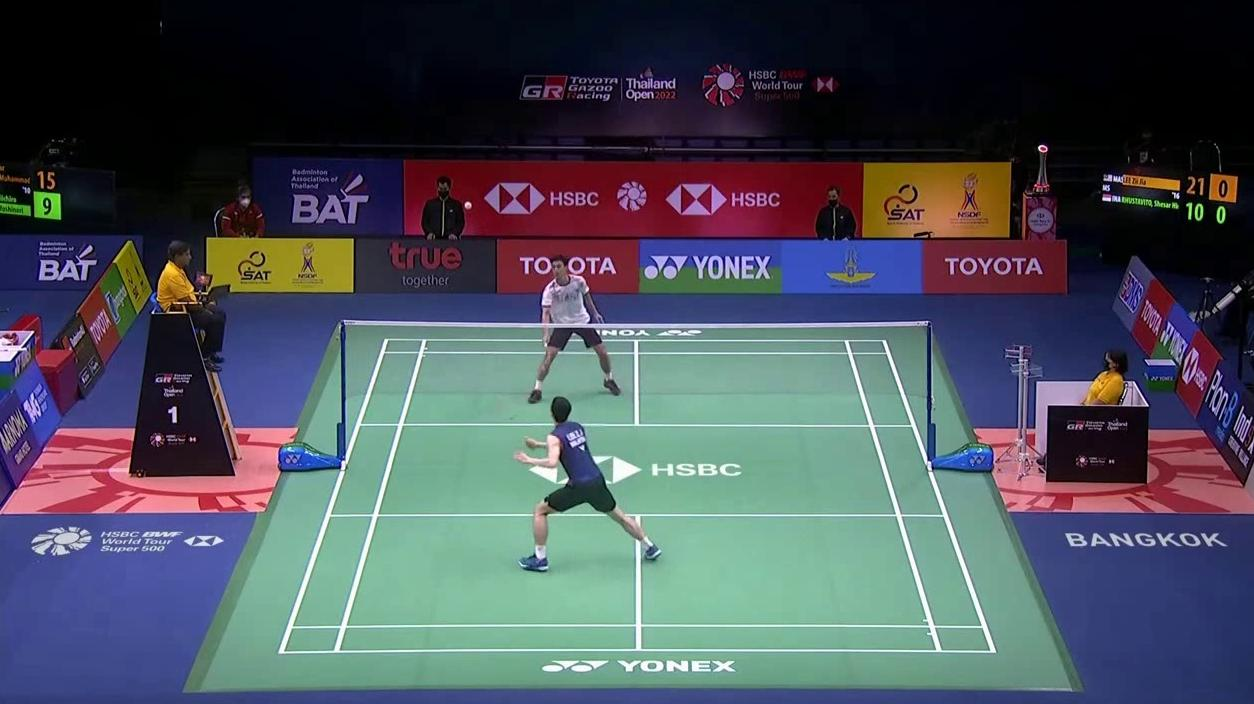racket: (496, 397, 538, 448), (540, 336, 558, 363)
shuttle: (463, 201, 471, 210)
